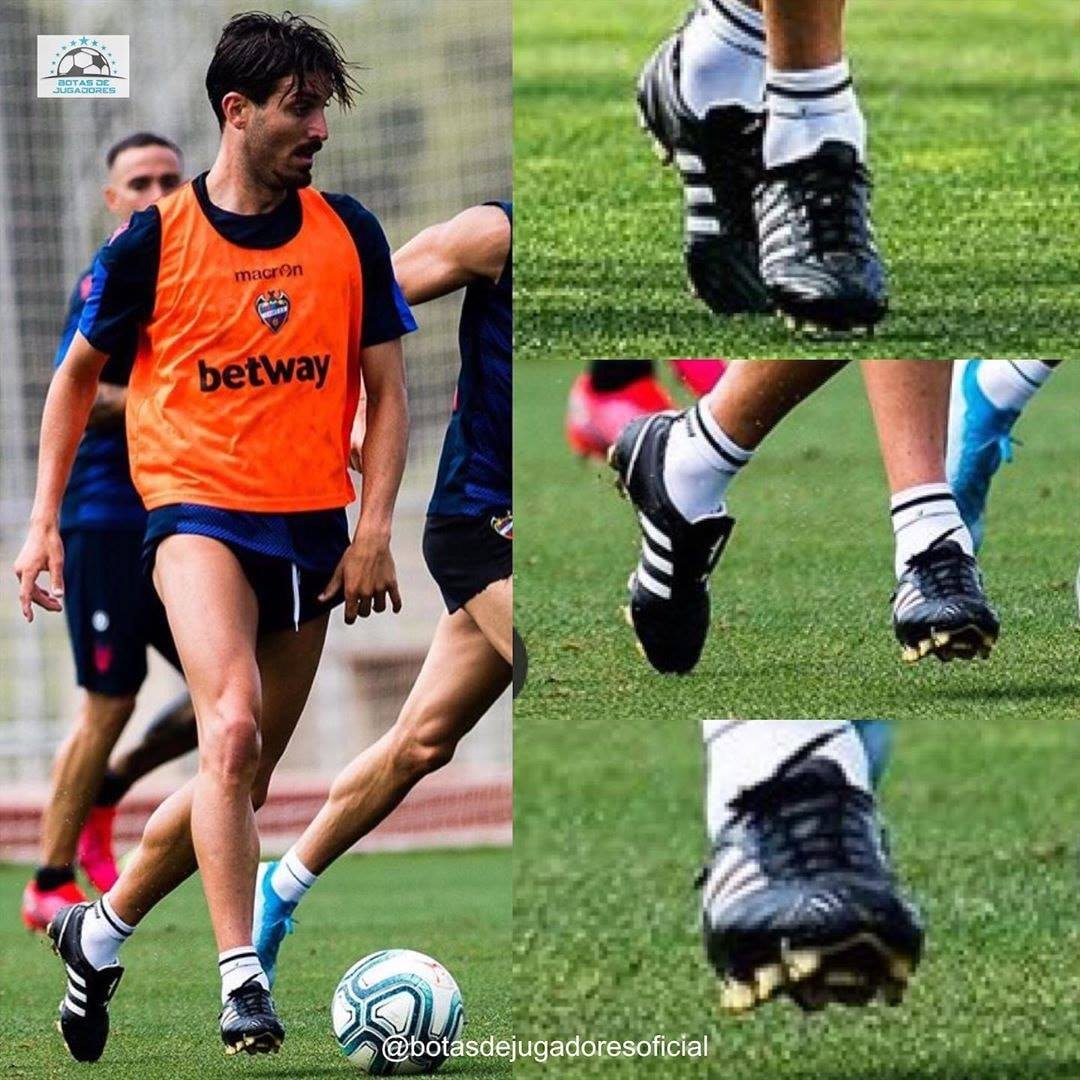football boots: (697, 794, 917, 1016), (632, 33, 765, 317), (605, 417, 721, 675), (757, 175, 888, 340), (47, 901, 119, 1067), (888, 555, 997, 663), (213, 987, 285, 1058)
